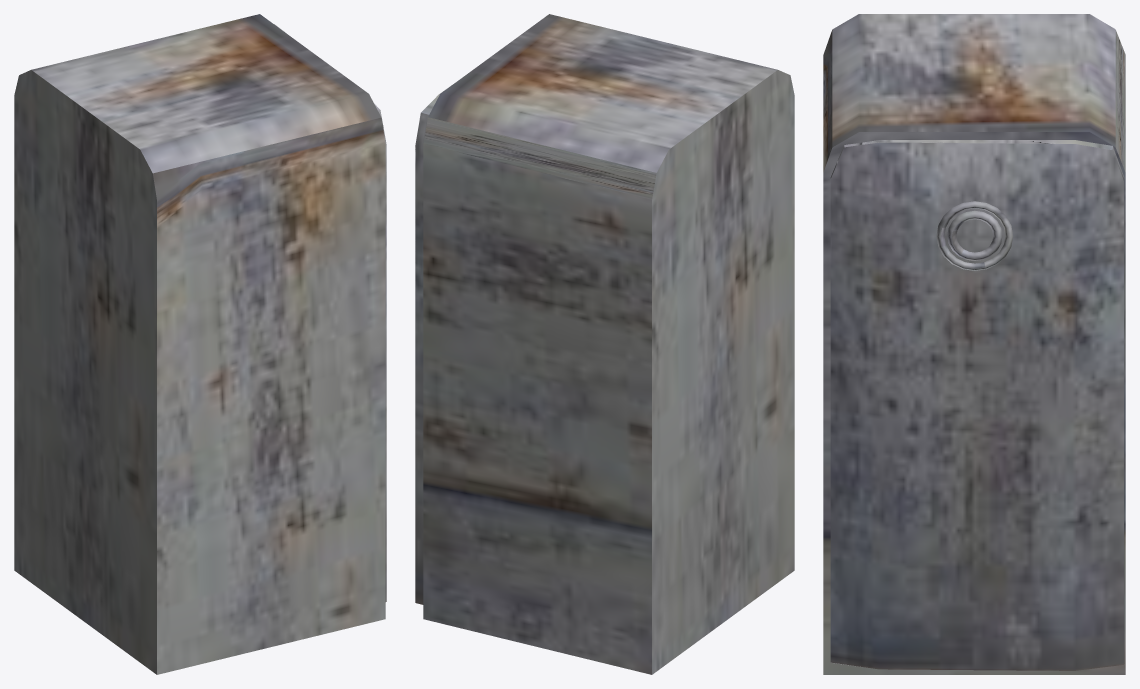
The model's file is fridge2.glb.
The picture shows the model from 3 angles, left to right: view 1: azimuth 30°, elevation 25°; view 2: azimuth 150°, elevation 25°; view 3: azimuth 270°, elevation 25°; orthographic projection. The views are drawn at different scales.
Visible parts, largest first — view 1: Box001, Box002; view 2: Box001, Box002; view 3: Box002, Box001.
Part boxes in pixels (left/top/right/bottom): Box001: left=14, top=14, right=385, bottom=674; Box002: left=274, top=24, right=386, bottom=601; Box001: left=423, top=14, right=794, bottom=674; Box002: left=415, top=85, right=451, bottom=604; Box002: left=830, top=140, right=1124, bottom=670; Box001: left=823, top=14, right=1125, bottom=674.
Bounding box in the file's own units: 0.2701 × 0.5249 × 0.2646.
2 materials, 2 textured.
